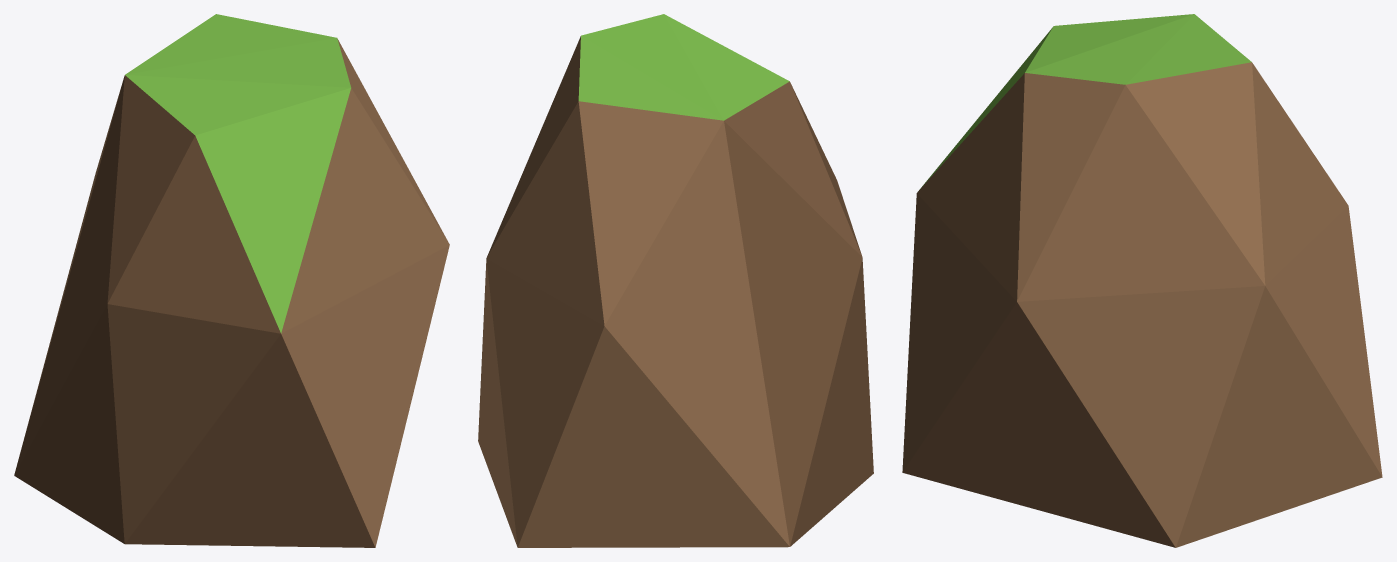
The model's file is rock_tallE.glb.
The picture shows the model from 3 angles, left to right: view 1: azimuth 30°, elevation 25°; view 2: azimuth 150°, elevation 25°; view 3: azimuth 270°, elevation 25°; orthographic projection. The views are drawn at different scales.
Visible parts, largest first — view 1: rock_tallE; view 2: rock_tallE; view 3: rock_tallE.
Boxes of the visible parts, x1=… form: rock_tallE: x1=14, y1=14, x2=449, y2=547; rock_tallE: x1=478, y1=14, x2=873, y2=547; rock_tallE: x1=902, y1=14, x2=1382, y2=547.
Bounding box in the file's own units: 0.3819 × 0.434 × 0.4462.
Materials: 1 (1 with a texture image).
